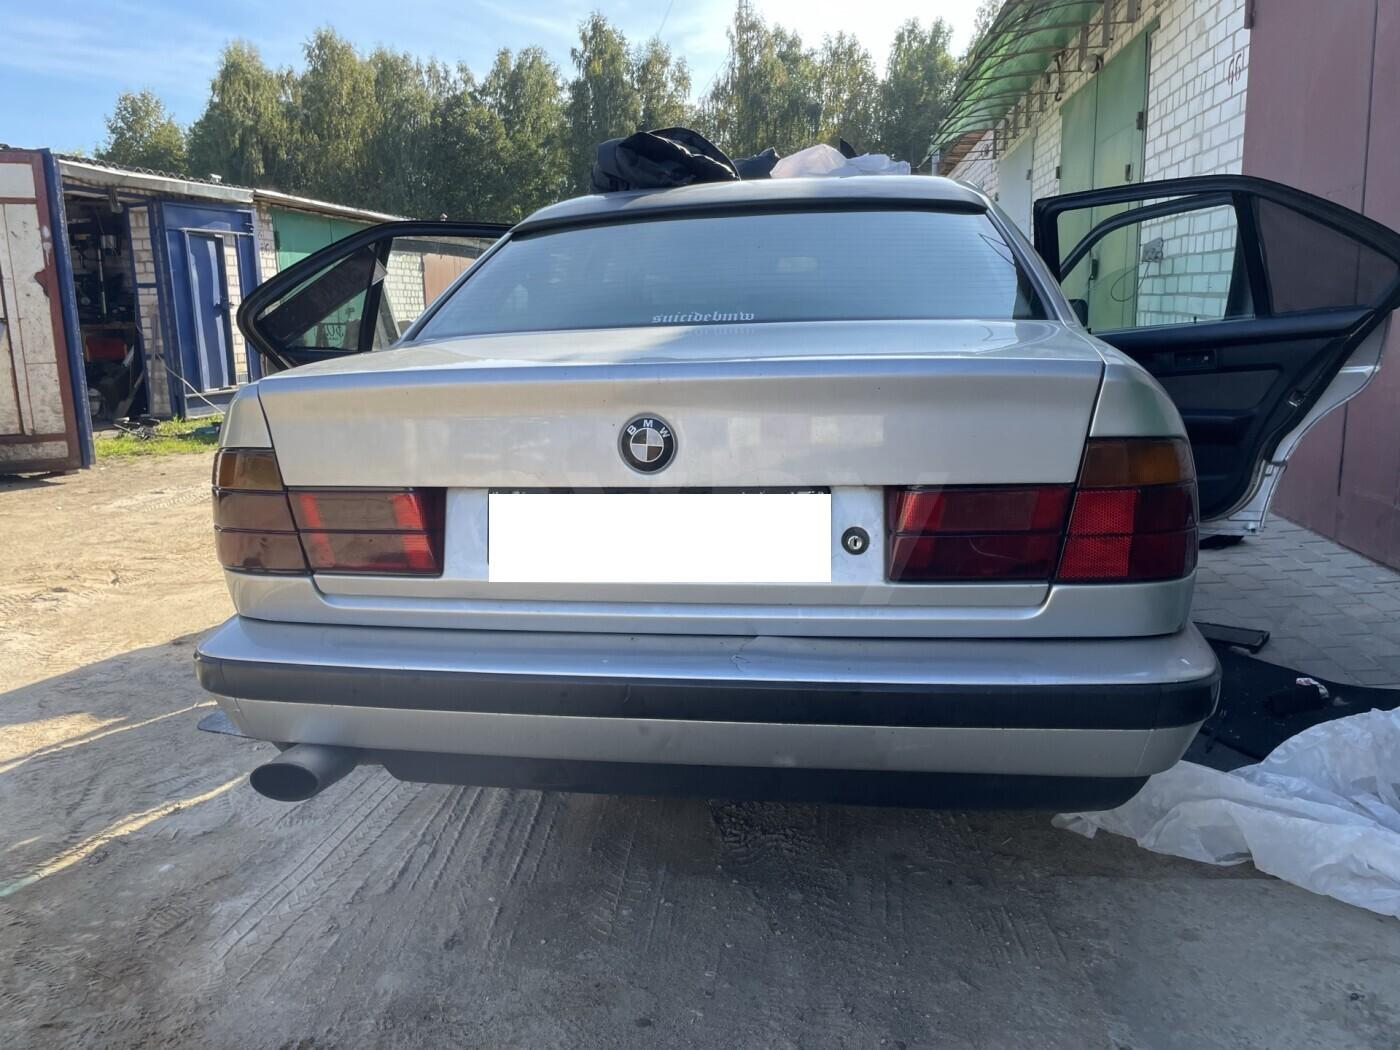BMW_E34_1992_3600: (196, 171, 1394, 816)
